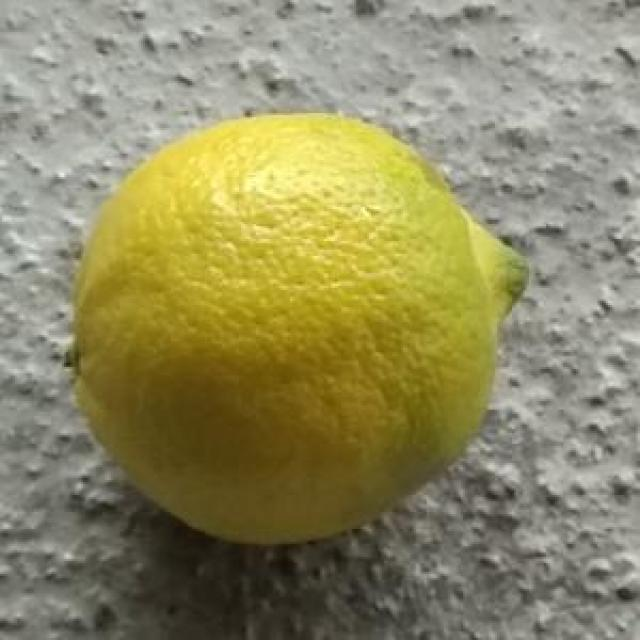lemon: (64, 110, 531, 543)
